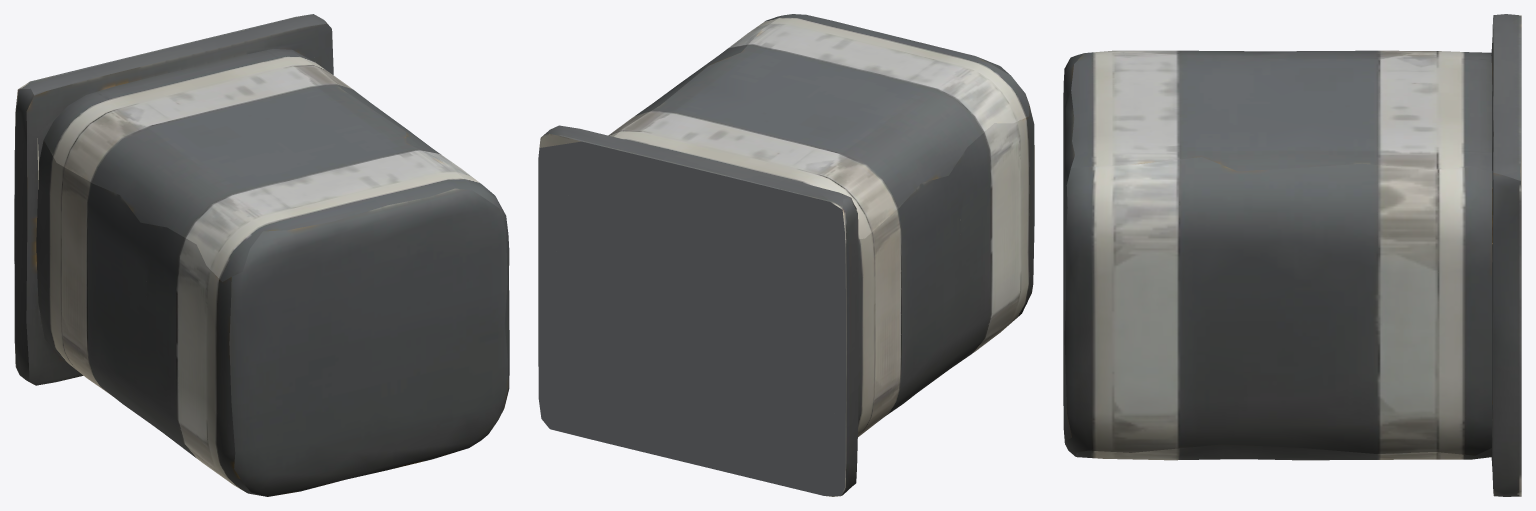
Rendered from goods_storage_mk1.glb.
The picture shows the model from 3 angles, left to right: view 1: azimuth 30°, elevation 25°; view 2: azimuth 150°, elevation 25°; view 3: azimuth 270°, elevation 25°; orthographic projection. The views are drawn at different scales.
Visible parts, largest first — view 1: part; view 2: part; view 3: part.
Part boxes in pixels (x1,y1,x2,y2): part: [14, 14, 509, 496]; part: [538, 14, 1034, 496]; part: [1063, 14, 1521, 496].
Size of the model in its own units: 3.45 by 3.18 by 4.
2 materials, 1 textured.
